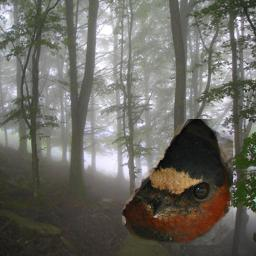Swallow: (122, 119, 233, 245)
